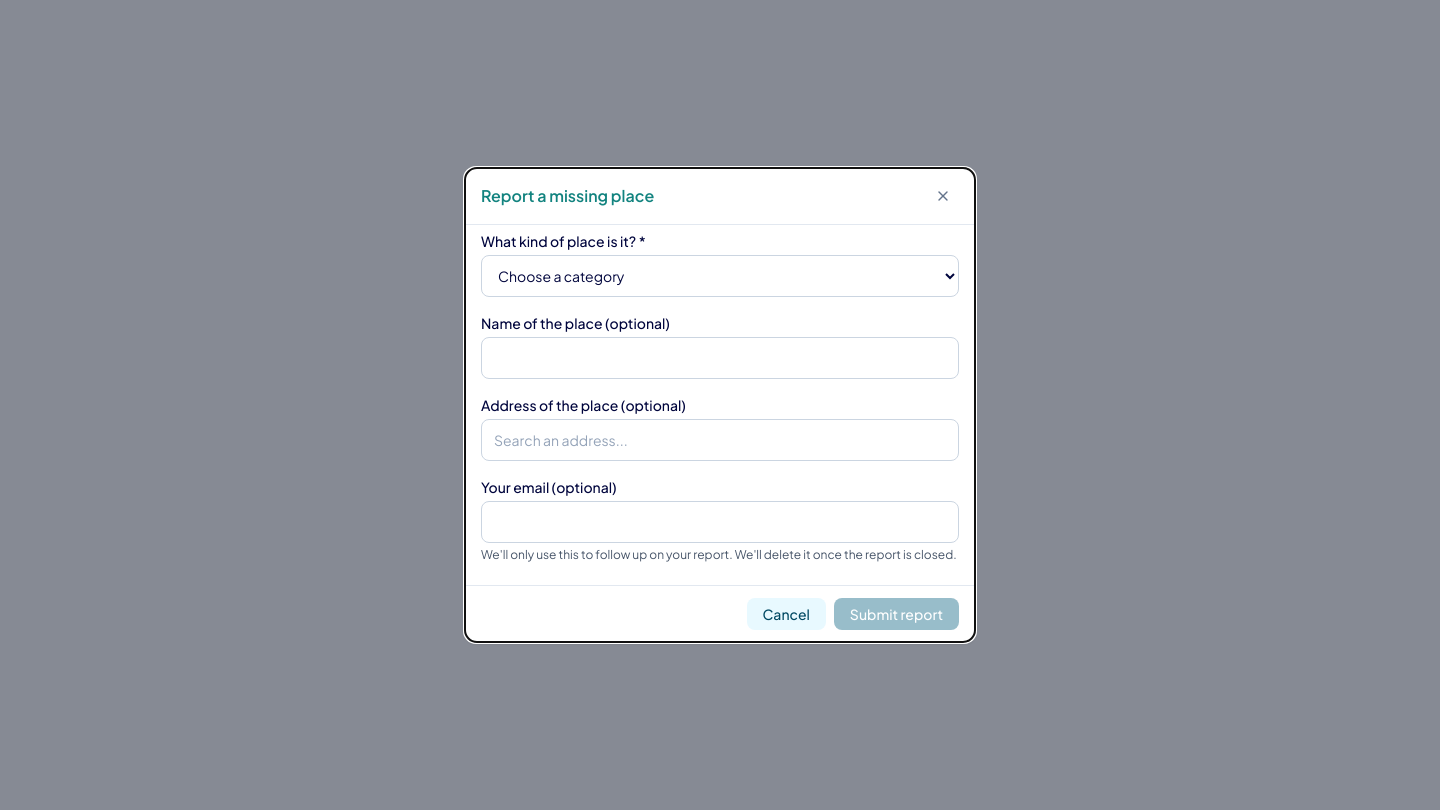
Test case: MapCorrectionForm › add › shows the field error from a 422 next to that field
Select "Restaurants" in the dropdown labelled "What kind of place is it? *": (720, 276) x1=481 y1=255 x2=959 y2=297
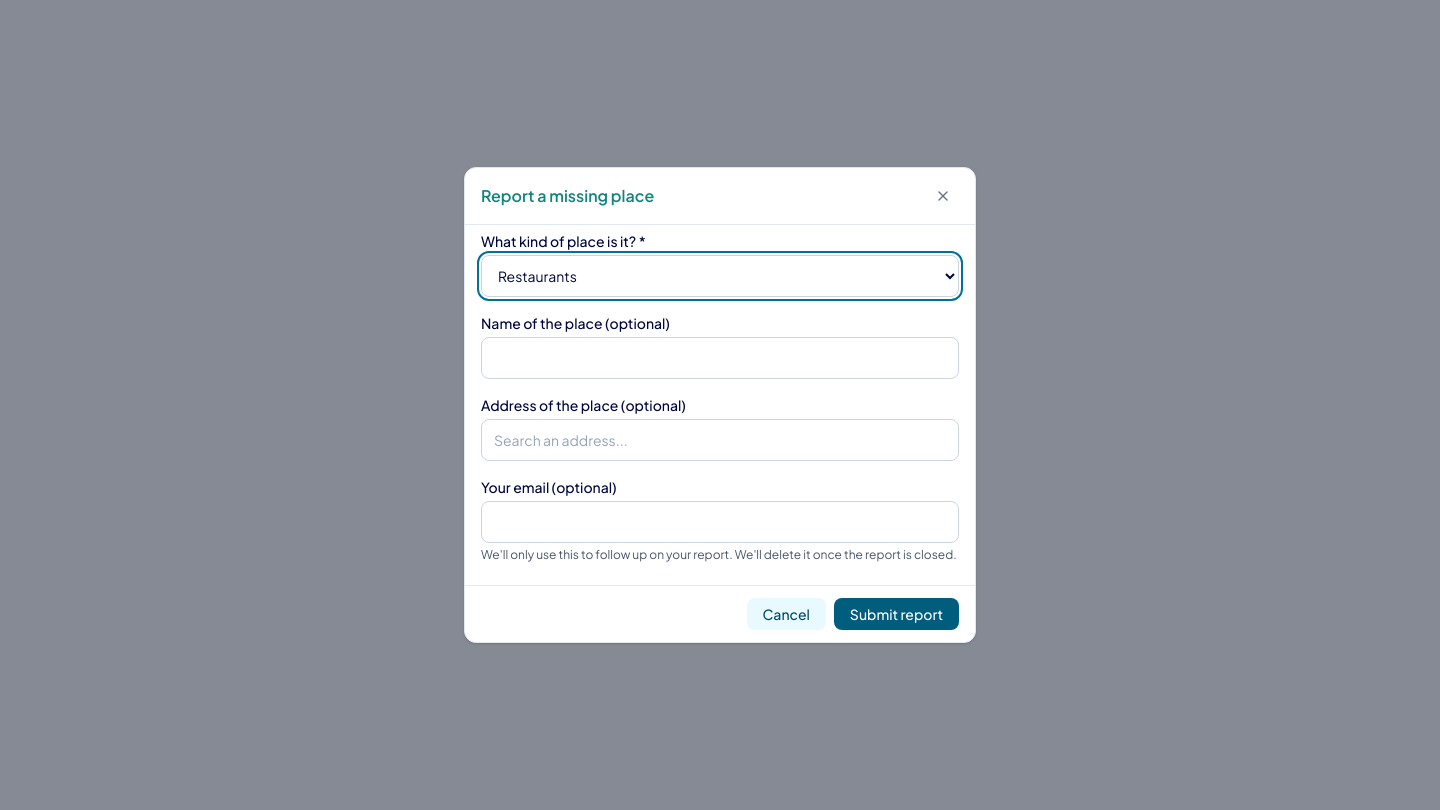
Click the button "Submit report": (896, 614) x1=834 y1=598 x2=959 y2=630
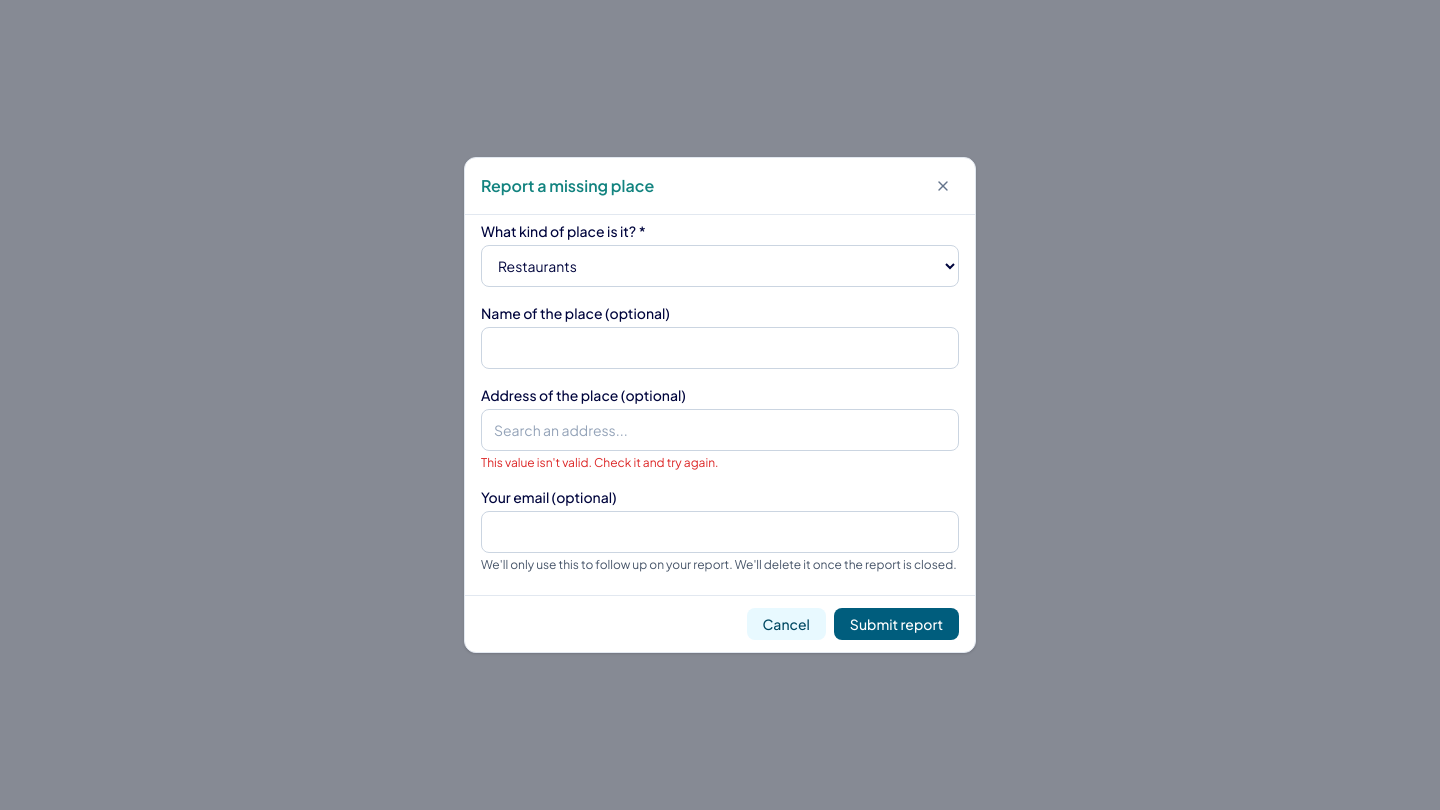
Check: the text "This value isn't valid. Check it and try again." is shown, box x1=481 y1=455 x2=718 y2=470
